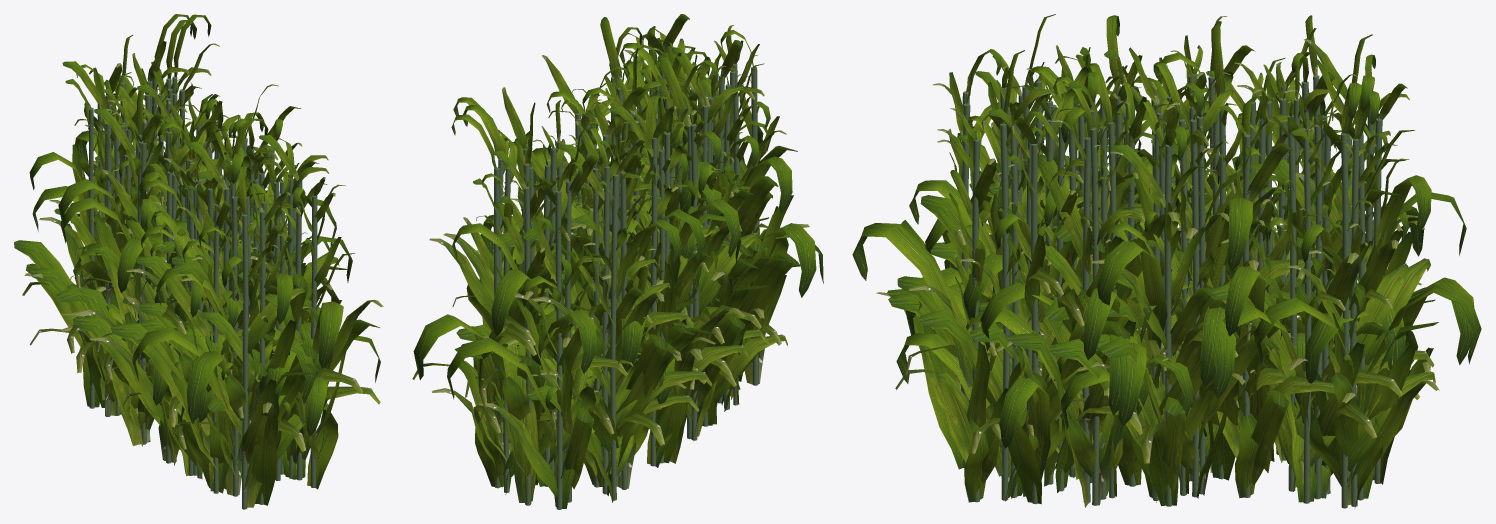
The model's file is milharal3x9_denso7.fbx.
3 renders of one model, left to right at view 1: azimuth 30°, elevation 25°; view 2: azimuth 150°, elevation 25°; view 3: azimuth 270°, elevation 25°, orthographic. The views are drawn at different scales.
Parts seen in each view (by area): view 1: Plantacao2; view 2: Plantacao2; view 3: Plantacao2.
Part boxes in pixels (x1,y1,x2,y2): Plantacao2: (14, 14, 383, 509); Plantacao2: (412, 14, 823, 509); Plantacao2: (852, 14, 1481, 508).
Bounding box in the file's own units: 767 × 1051 × 1362.
